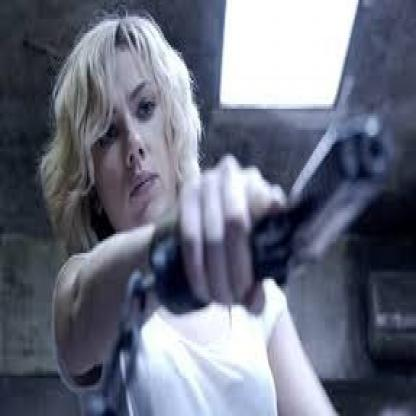Pistol: (148, 106, 393, 310)
